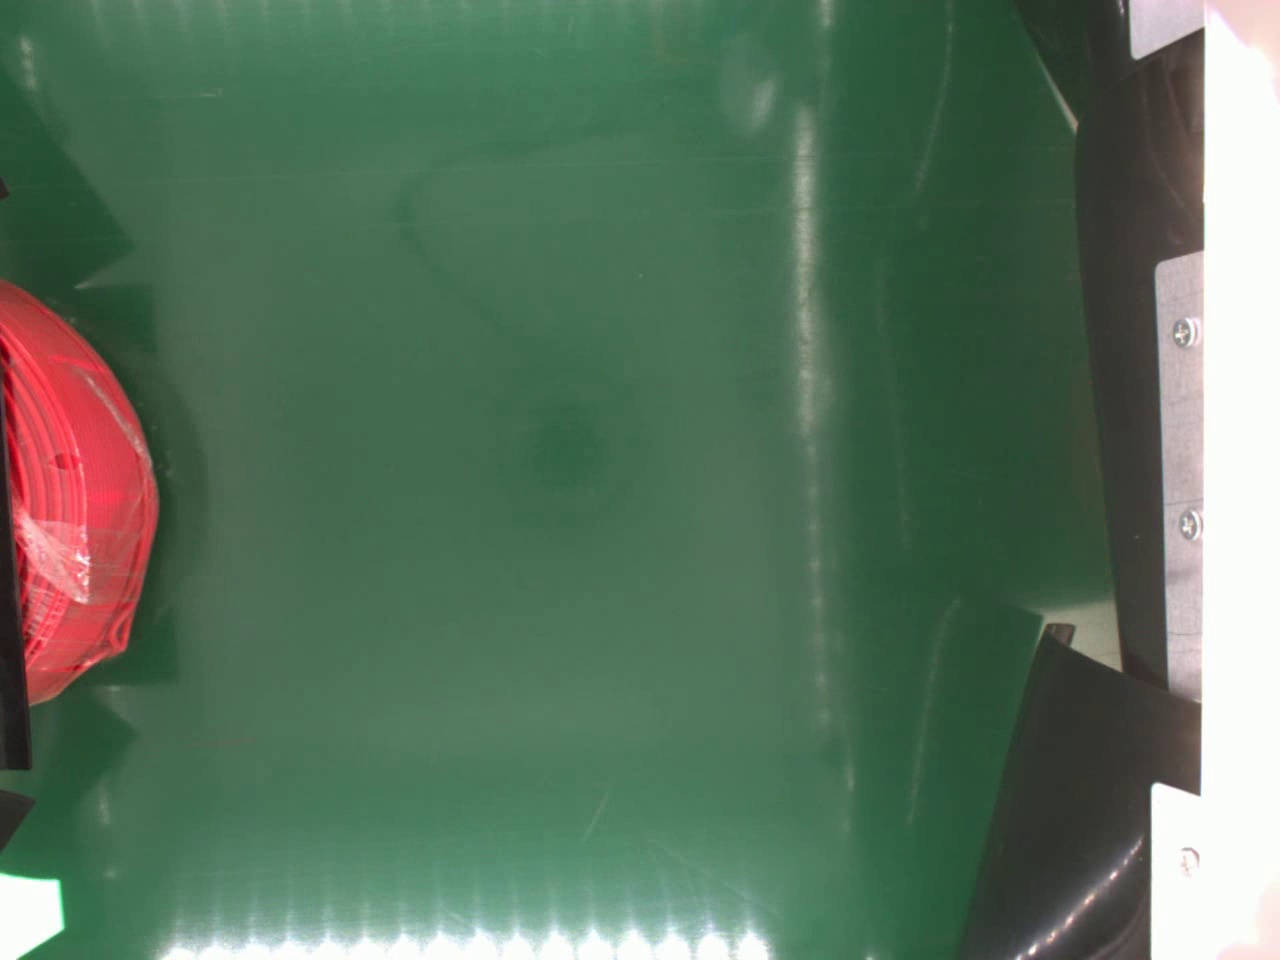red: (0, 272, 157, 713)
